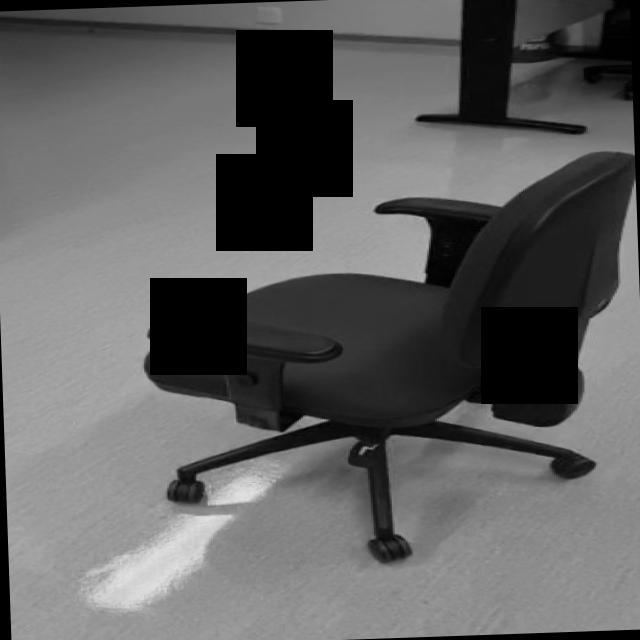chair: (134, 150, 640, 570)
